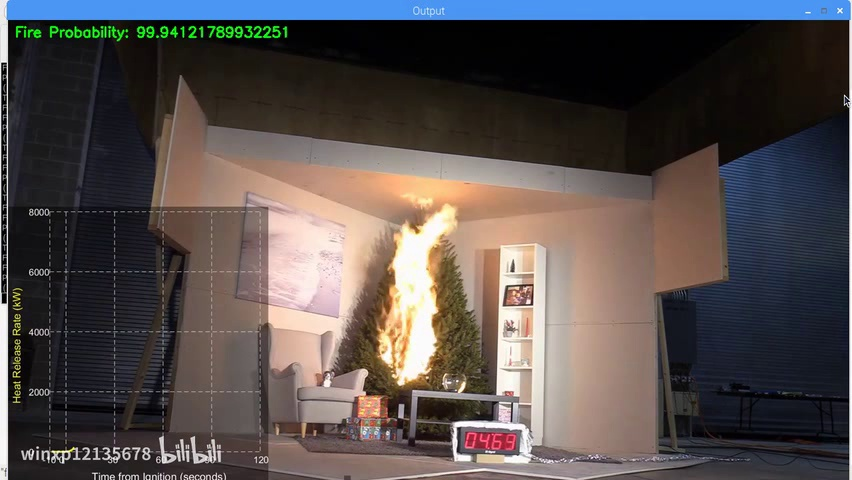fire: (372, 191, 460, 388)
